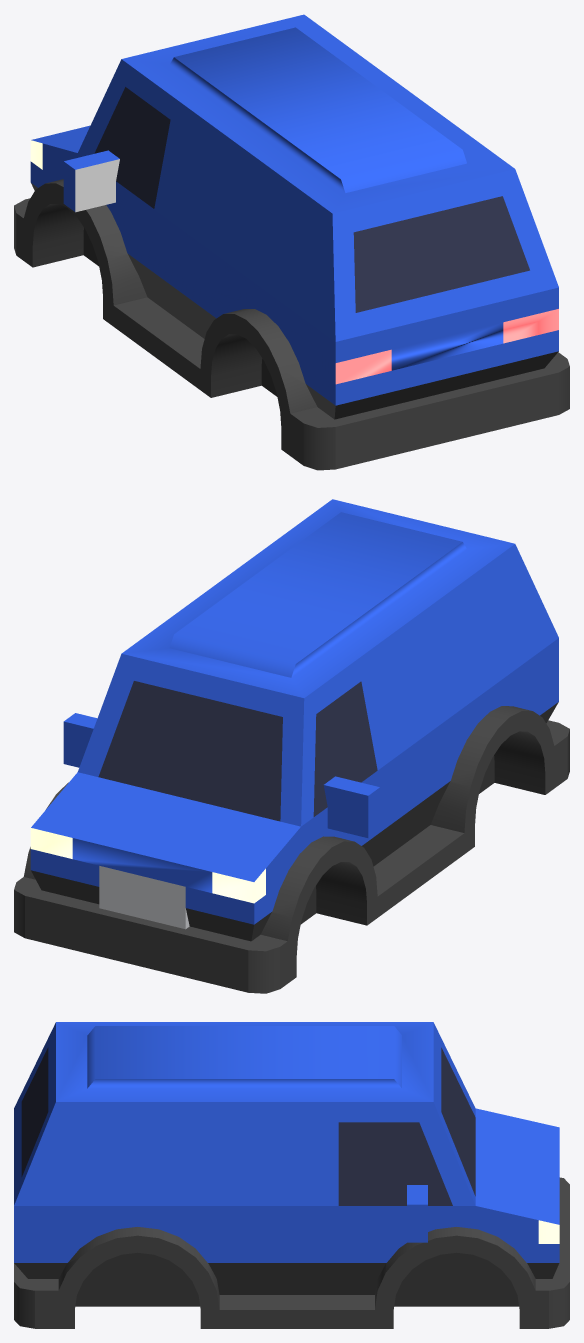
File: SM_Van_Body.fbx
3 views of the same model, one above another, from view 1: azimuth 30°, elevation 25°; view 2: azimuth 150°, elevation 25°; view 3: azimuth 270°, elevation 25° (orthographic). The views are drawn at different scales.
Parts seen in each view (by area): view 1: SM_Van_Body; view 2: SM_Van_Body; view 3: SM_Van_Body.
Part boxes in pixels (left/top/right/bottom): SM_Van_Body: left=14, top=14, right=569, bottom=470; SM_Van_Body: left=14, top=499, right=569, bottom=993; SM_Van_Body: left=14, top=1022, right=569, bottom=1328.
Bounding box in the file's own units: 1.5 × 1.15 × 2.65.
